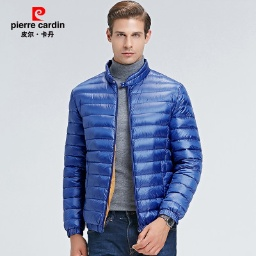face: (103, 1, 155, 63)
